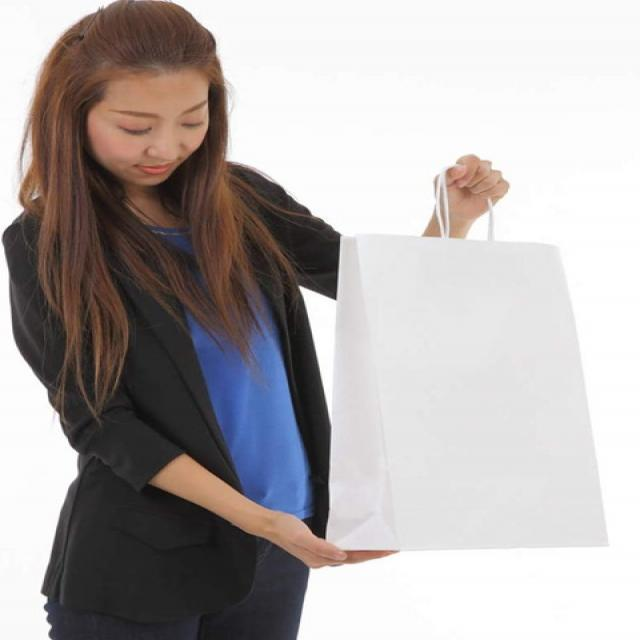paper bag: (323, 156, 615, 555)
